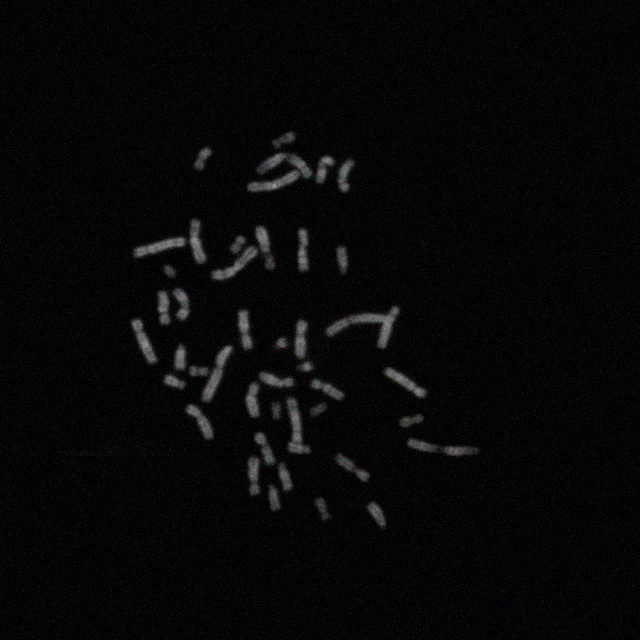chromosome: (200, 345, 233, 401), (326, 312, 396, 338), (210, 247, 258, 281), (256, 152, 312, 178), (407, 437, 479, 457), (383, 368, 427, 398), (246, 170, 300, 192), (132, 236, 186, 258), (334, 452, 370, 482), (185, 403, 213, 441), (132, 320, 156, 364), (254, 225, 276, 271), (378, 305, 400, 349), (190, 218, 207, 264), (315, 154, 335, 188), (255, 431, 275, 465), (237, 308, 253, 350), (312, 378, 344, 399), (364, 501, 388, 529), (338, 159, 357, 193), (259, 369, 293, 388), (288, 397, 302, 443), (246, 458, 262, 498), (296, 228, 310, 272), (172, 288, 190, 320), (156, 291, 172, 325), (246, 382, 260, 418), (295, 320, 307, 358), (278, 462, 294, 490), (272, 130, 294, 150), (400, 412, 424, 430), (172, 344, 188, 370), (193, 147, 210, 171), (315, 497, 331, 521), (308, 401, 328, 419), (336, 246, 348, 274), (163, 374, 184, 390), (286, 442, 310, 456), (268, 485, 280, 511), (229, 236, 245, 254), (272, 336, 288, 354), (191, 364, 209, 378), (271, 401, 281, 423), (296, 361, 314, 373)
